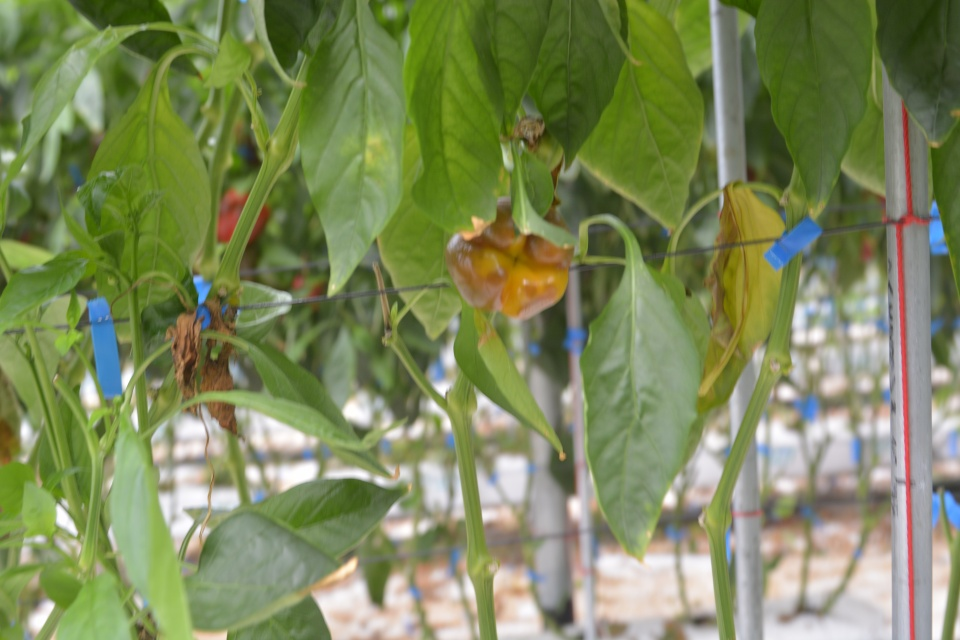fruit: (444, 195, 576, 323), (215, 185, 271, 246)
